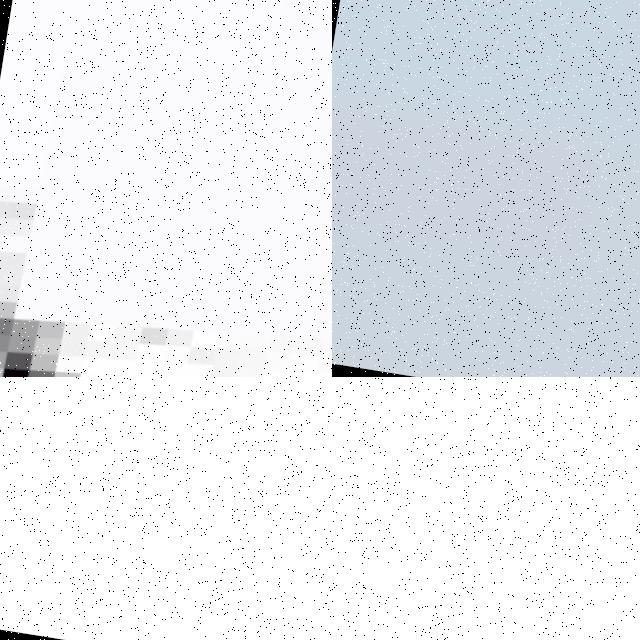drone: (0, 0, 332, 377)
